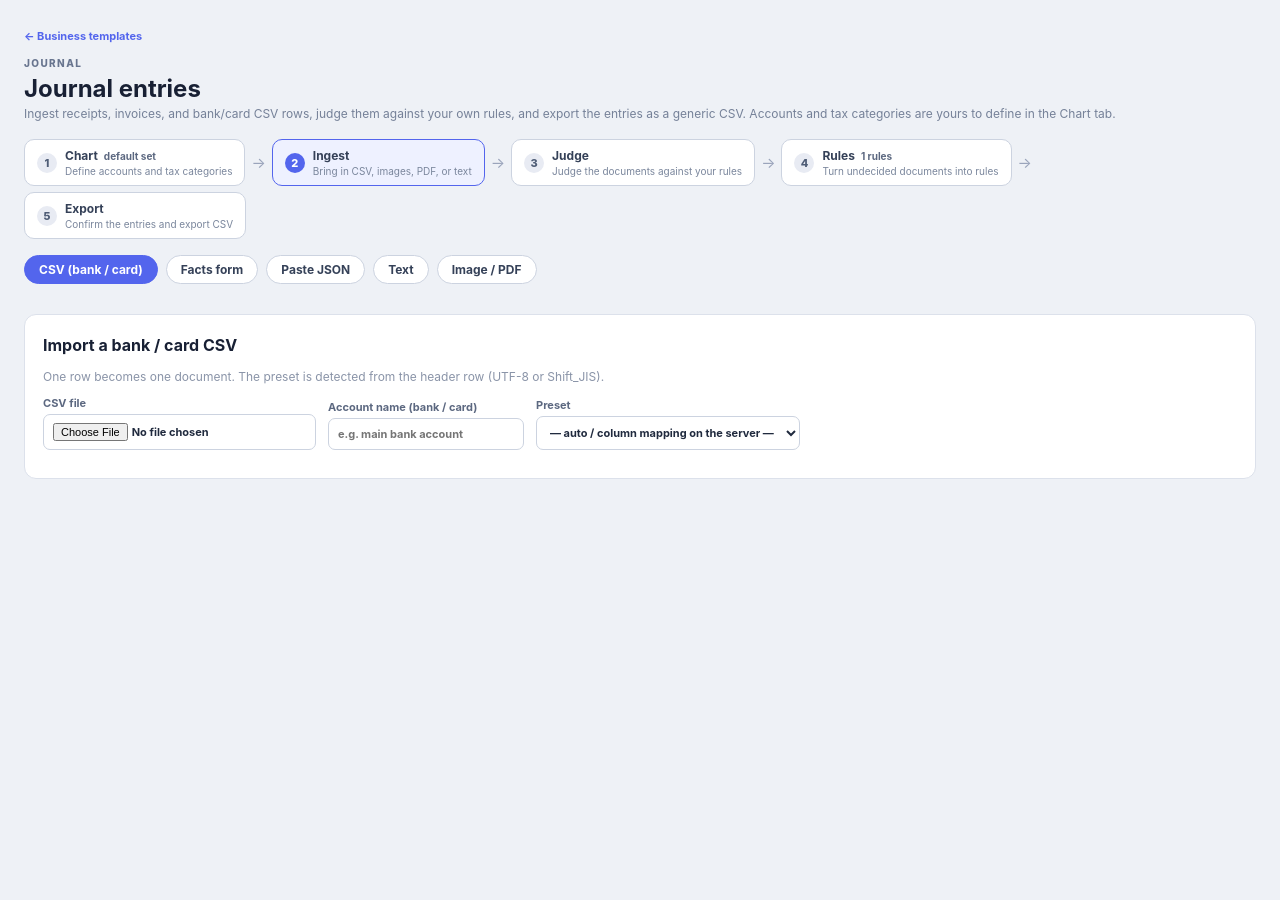
Scenario: JournalPage › 正常: unknown-account の「科目マスタを開く」は科目タブへ移り、その id の追加を促す
Click the tab "Judge" at x=633, y=162, box x1=511 y1=139 x2=755 y2=186
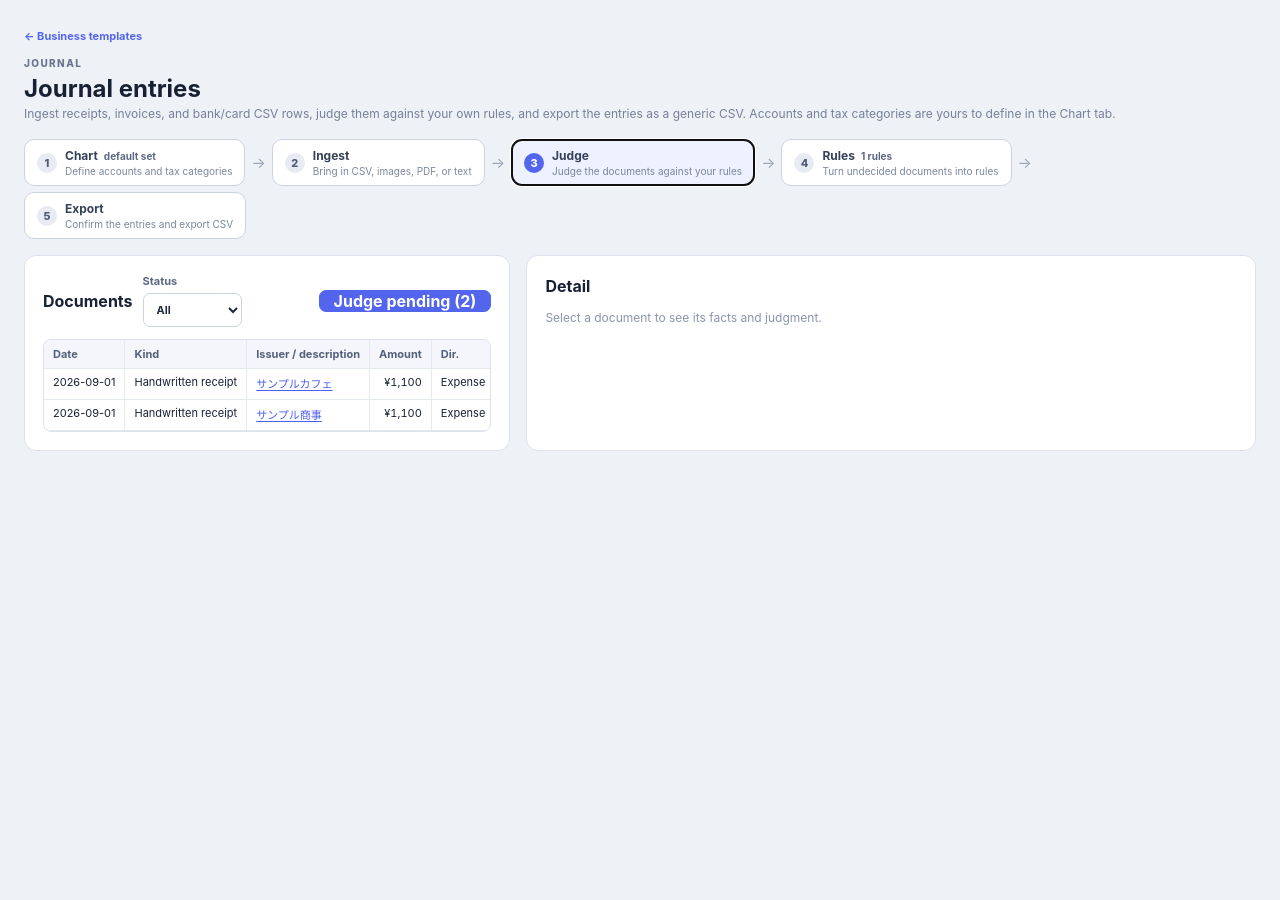
Click the button "サンプル商事" at x=289, y=414, box x1=256 y1=406 x2=322 y2=422
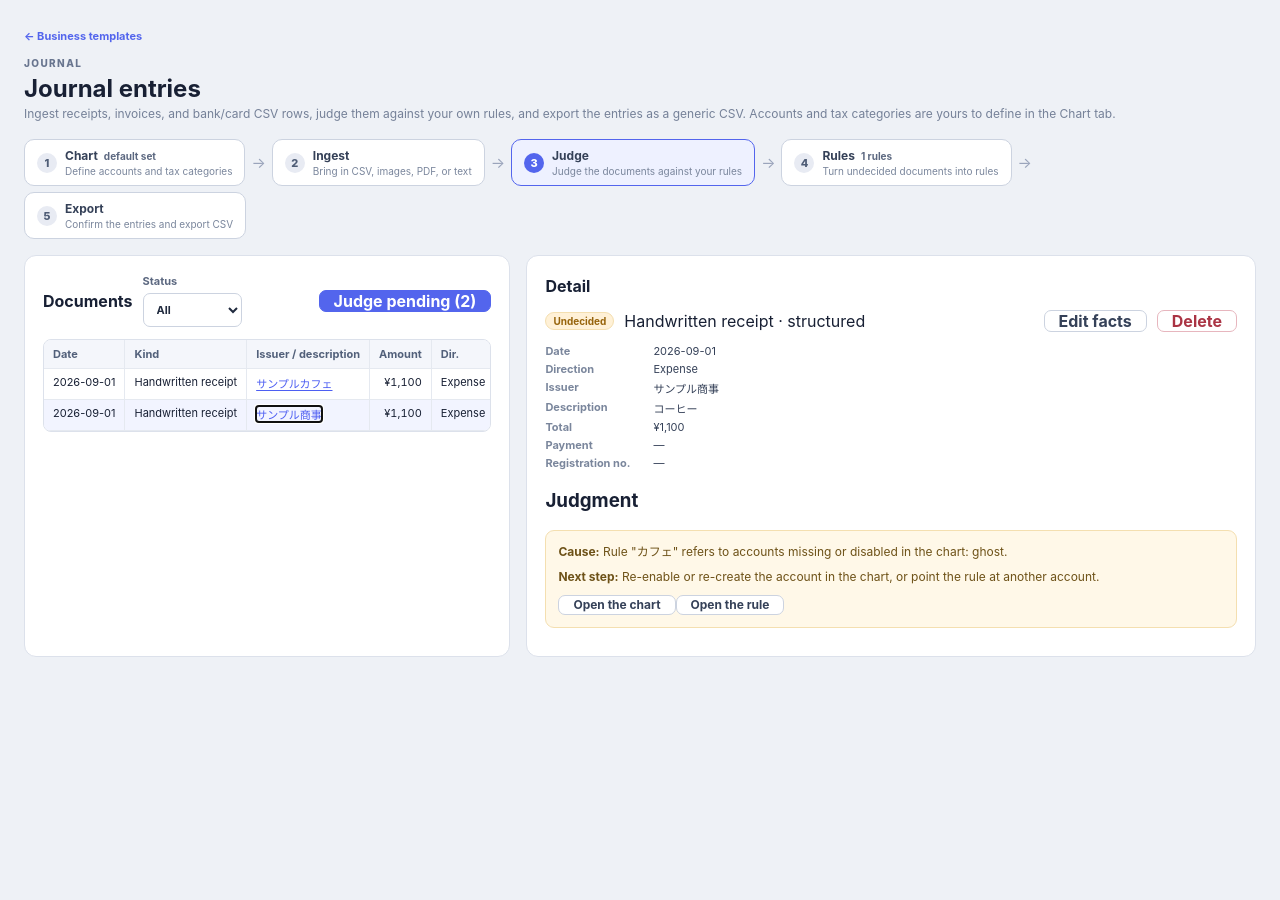
Click the button "Open the chart" at x=617, y=605, box x1=558 y1=595 x2=676 y2=615
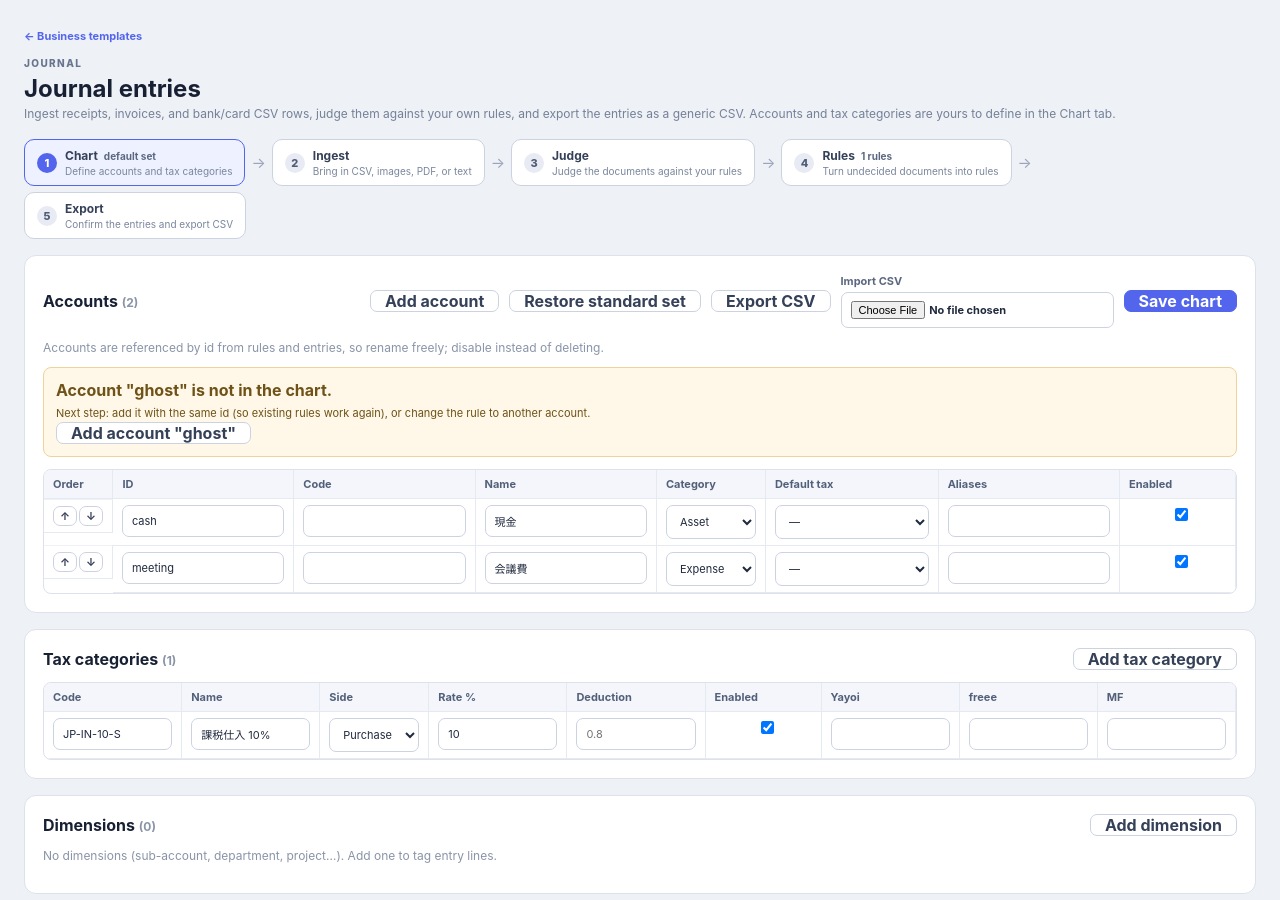
Check: the text "Account \"ghost\" is not in the chart." is shown, box x1=56 y1=380 x2=332 y2=400
Check: the button "Add account \"ghost\"" is shown, box x1=56 y1=422 x2=251 y2=444
